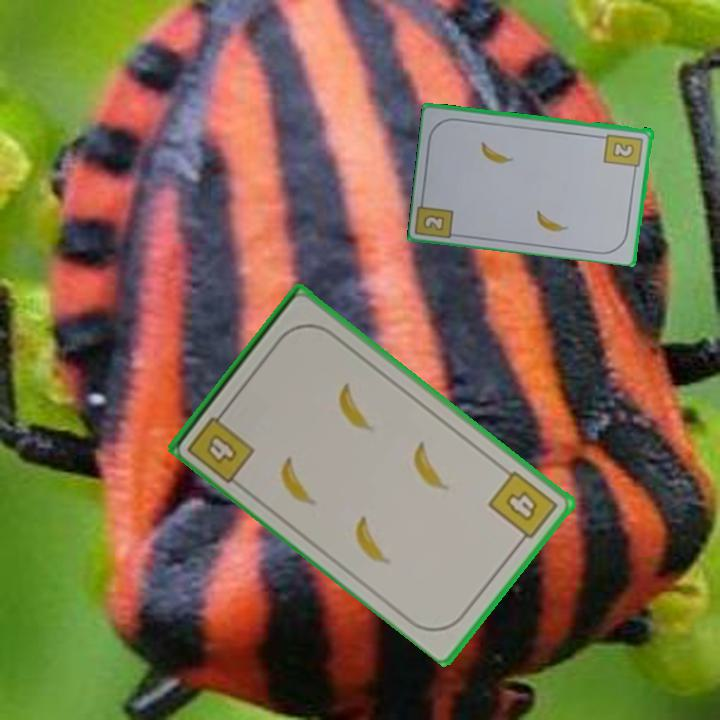2b: (601, 130, 646, 175), (422, 212, 446, 231)
4b: (484, 467, 561, 548), (183, 403, 258, 486)
